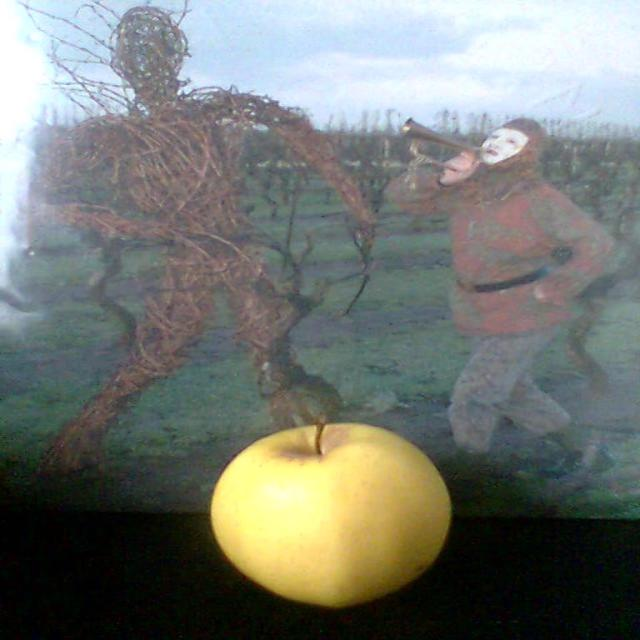Healty Apple: (211, 419, 457, 605)
